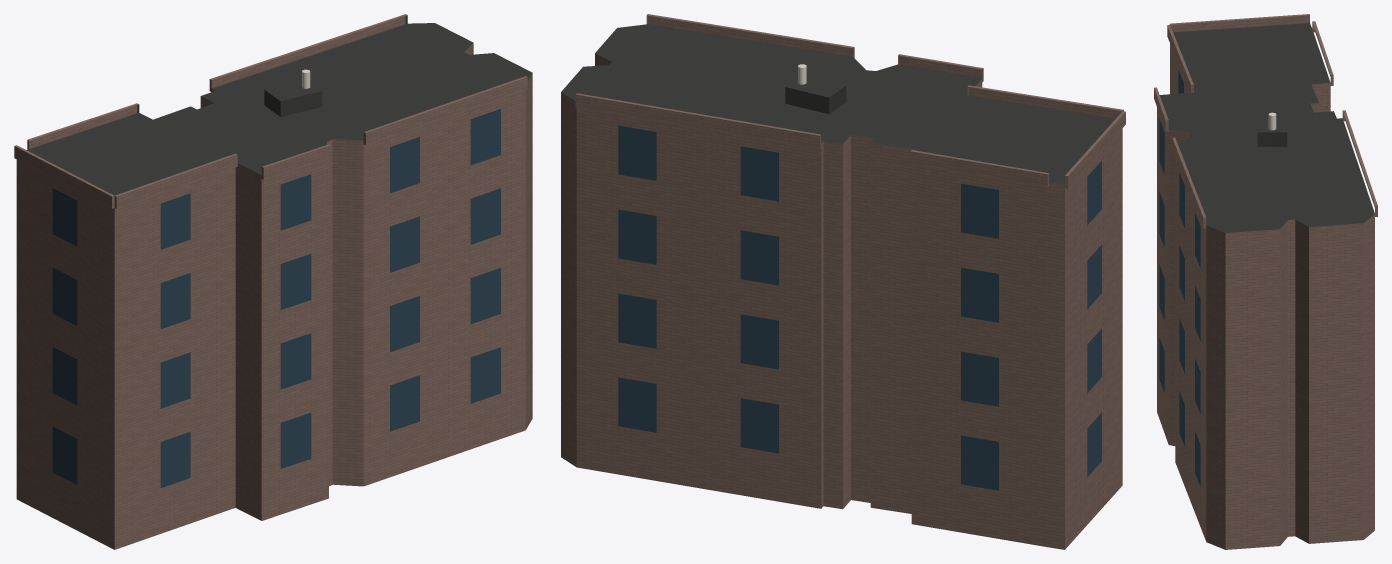
The picture shows the model from 3 angles, left to right: view 1: azimuth 30°, elevation 25°; view 2: azimuth 150°, elevation 25°; view 3: azimuth 270°, elevation 25°; orthographic projection. The views are drawn at different scales.
Parts seen in each view (by area): view 1: Footprint 0 / surface 2, Footprint 0 / surface 1, Inset glazing, Facade bay volumes, Inferred rooftop service enclosure / surface 5, Inferred rooftop service enclosure / surface 3; view 2: Footprint 0 / surface 2, Footprint 0 / surface 1, Inset glazing, Facade bay volumes, Inferred rooftop service enclosure / surface 6, Inferred rooftop service enclosure / surface 3; view 3: Footprint 0 / surface 2, Footprint 0 / surface 1, Facade bay volumes, Inset glazing, Inferred rooftop service enclosure / surface 3, Inferred rooftop service enclosure / surface 1.
Boxes of the visible parts, x1,y1,x2,y2 form: Footprint 0 / surface 2: [16, 43, 532, 549]; Footprint 0 / surface 1: [27, 23, 532, 195]; Inset glazing: [52, 109, 500, 487]; Facade bay volumes: [14, 14, 527, 208]; Inferred rooftop service enclosure / surface 5: [280, 91, 322, 116]; Inferred rooftop service enclosure / surface 3: [264, 80, 321, 101]; Footprint 0 / surface 2: [561, 53, 1122, 549]; Footprint 0 / surface 1: [561, 24, 1115, 184]; Inset glazing: [618, 125, 1101, 490]; Facade bay volumes: [575, 14, 1125, 188]; Inferred rooftop service enclosure / surface 6: [785, 87, 829, 114]; Inferred rooftop service enclosure / surface 3: [785, 75, 845, 97]; Footprint 0 / surface 2: [1157, 44, 1374, 549]; Footprint 0 / surface 1: [1159, 23, 1374, 232]; Facade bay volumes: [1154, 14, 1377, 228]; Inset glazing: [1159, 70, 1200, 486]; Inferred rooftop service enclosure / surface 3: [1257, 113, 1287, 132]; Inferred rooftop service enclosure / surface 1: [1257, 132, 1287, 146].
Bounding box in the file's own units: 20.32 × 15.5 × 9.1.
